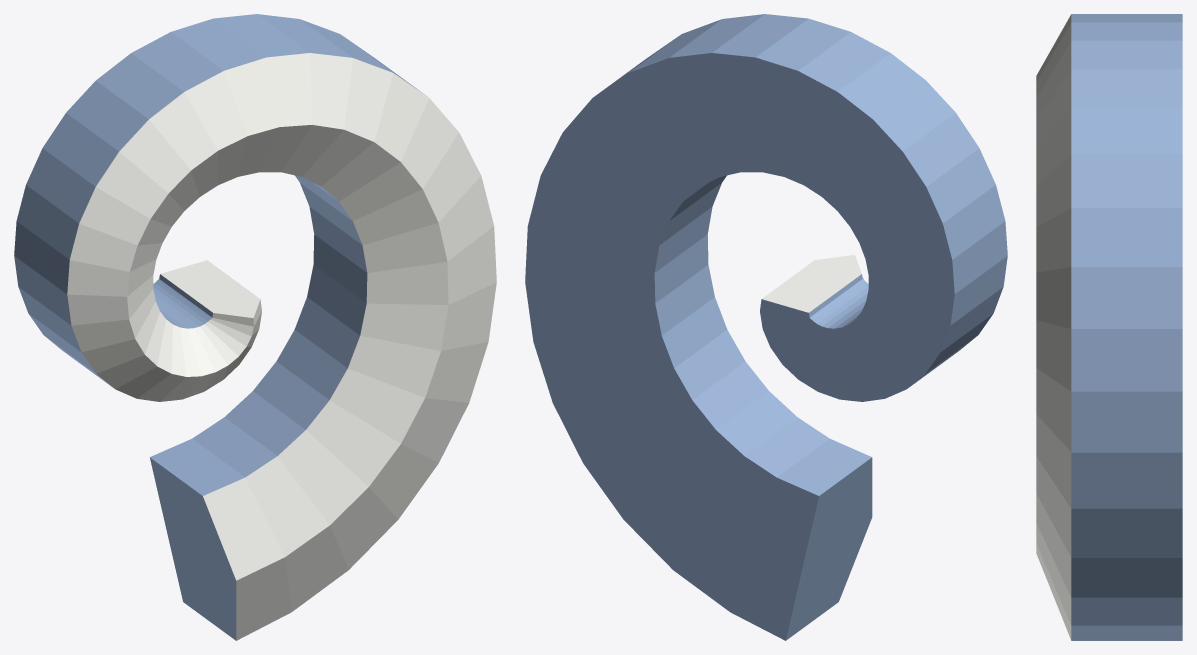
3 renders of one model, left to right at view 1: azimuth 30°, elevation 25°; view 2: azimuth 150°, elevation 25°; view 3: azimuth 270°, elevation 25°, orthographic. The views are drawn at different scales.
Parts seen in each view (by area): view 1: 正面独立立体纸卷.001; view 2: 正面独立立体纸卷.001; view 3: 正面独立立体纸卷.001.
Part boxes in pixels (<box>): 正面独立立体纸卷.001: <box>14,14,496,640</box>; 正面独立立体纸卷.001: <box>525,14,1007,640</box>; 正面独立立体纸卷.001: <box>1036,14,1182,640</box>.
Bounding box in the file's own units: 0.4735 × 0.6069 × 0.1334.
